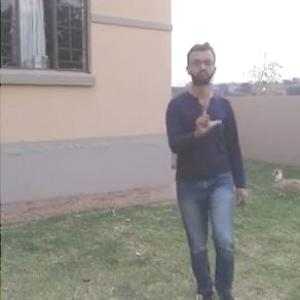land_hand: (190, 92, 224, 138)
